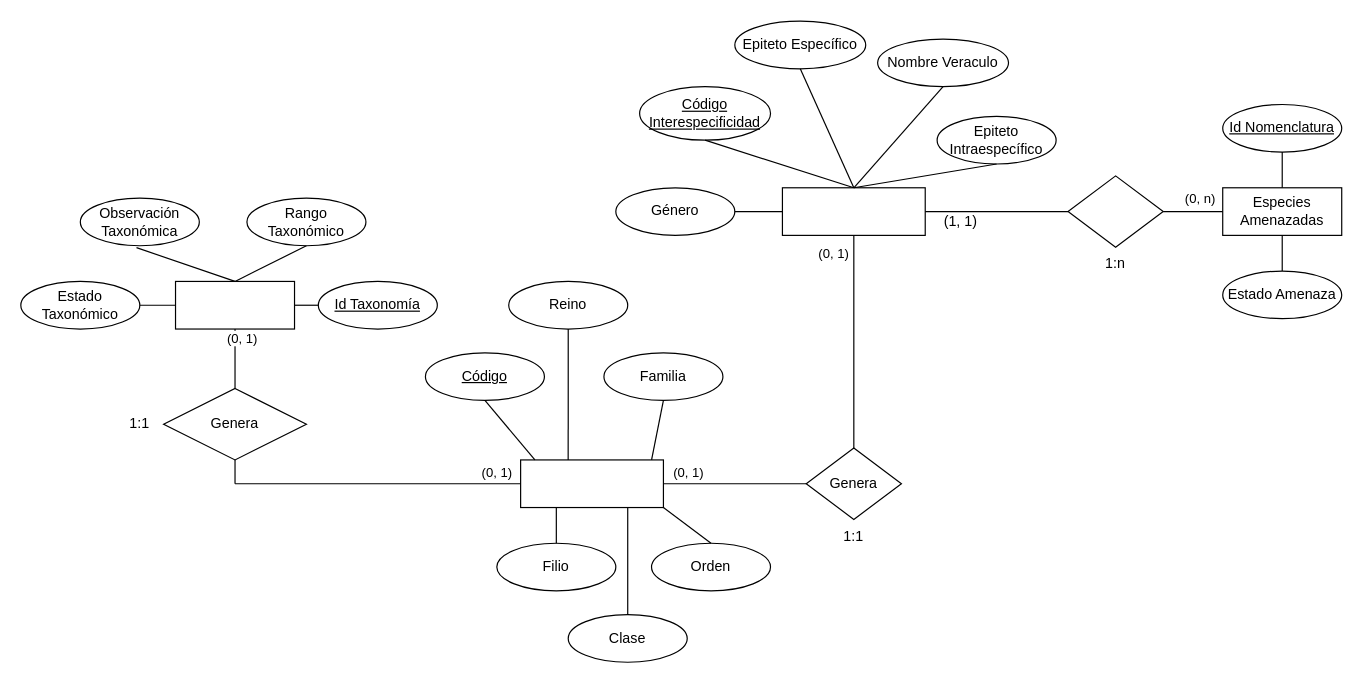
The diagram is 1363 pixels wide and 683 high, and some of its shapes have lost their labels. Here are the shapes that lost their labels. From the top down, the centre of each, then its label:
At (853,211): "Intraespecificidad Epiteto".
At (1115,211): "Pertenece a".
At (234,304): "Información Taxonómica".
At (591,483): "Clasificación Superior".
